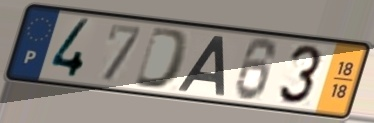3: (276, 43, 326, 108)
4: (47, 16, 91, 81)
6: (232, 35, 278, 103)
7: (102, 22, 144, 84)
A: (174, 33, 226, 98)
D: (130, 25, 193, 92)
